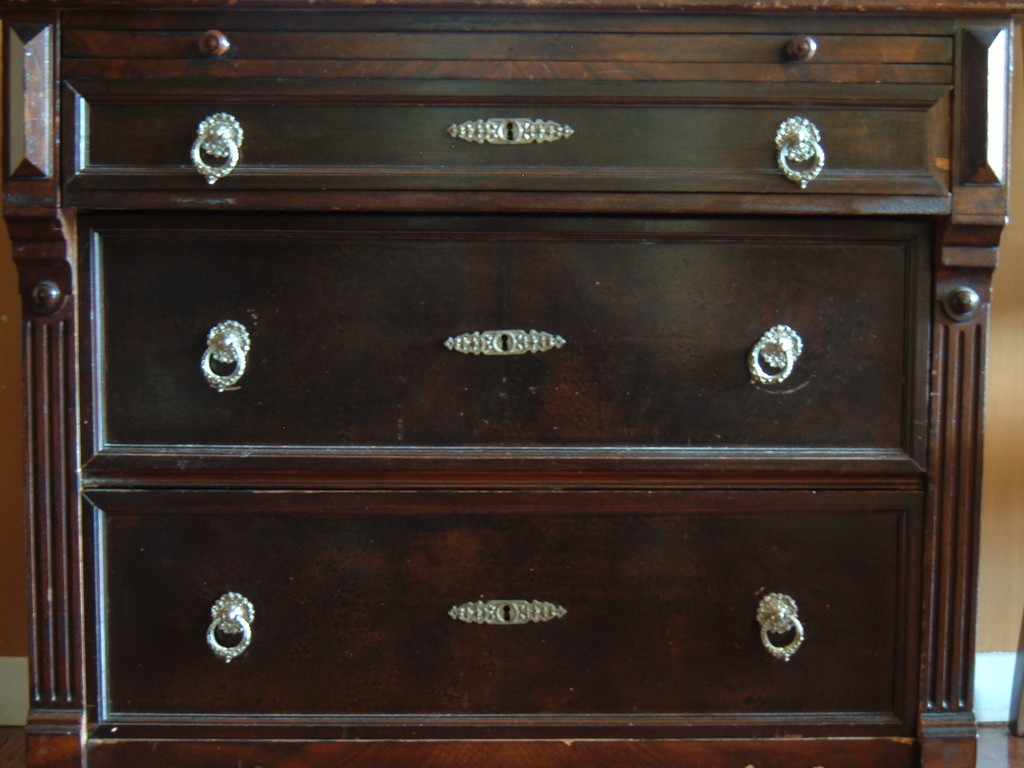cabinet door: (90, 228, 921, 461), (87, 500, 909, 729), (81, 91, 950, 190)
handle: (739, 588, 818, 674), (184, 321, 255, 395), (199, 585, 263, 666), (194, 110, 252, 191), (747, 331, 814, 394), (776, 122, 831, 193)
